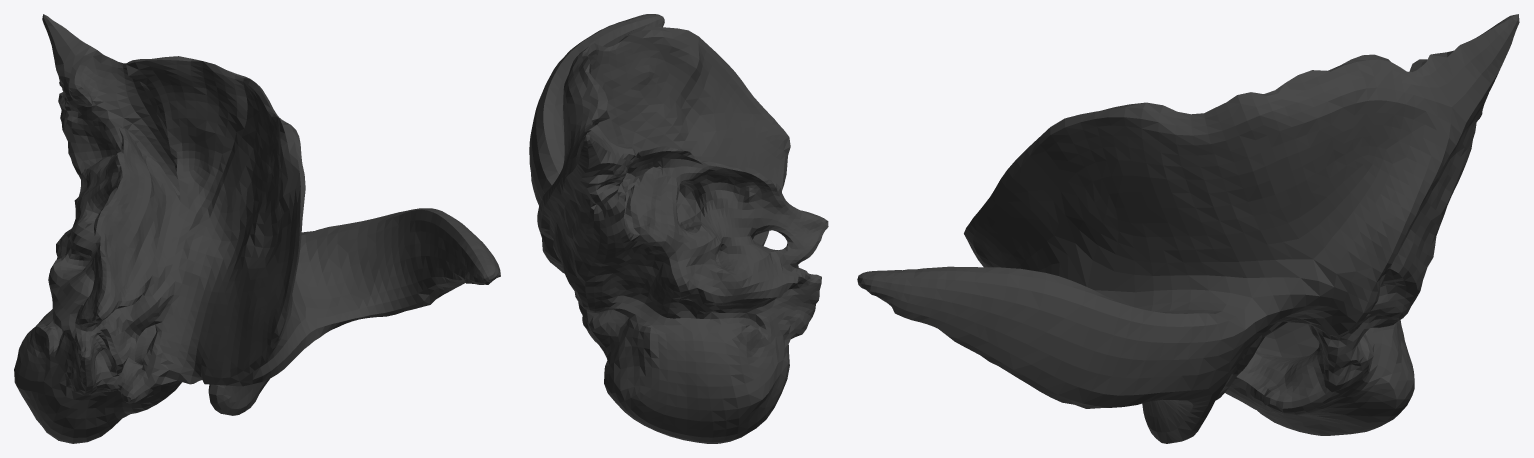
Rendered from Temporal_L.glb.
3 renders of one model, left to right at view 1: azimuth 30°, elevation 25°; view 2: azimuth 150°, elevation 25°; view 3: azimuth 270°, elevation 25°, orthographic. The views are drawn at different scales.
Visible parts, largest first — view 1: Temporal_L; view 2: Temporal_L; view 3: Temporal_L.
Part boxes in pixels (bbox=[...]): Temporal_L: bbox=[14, 14, 500, 443]; Temporal_L: bbox=[529, 14, 828, 443]; Temporal_L: bbox=[857, 14, 1519, 443].
Bounding box in the file's own units: 262 × 267 × 361.
Materials: 1 (1 with a texture image).
